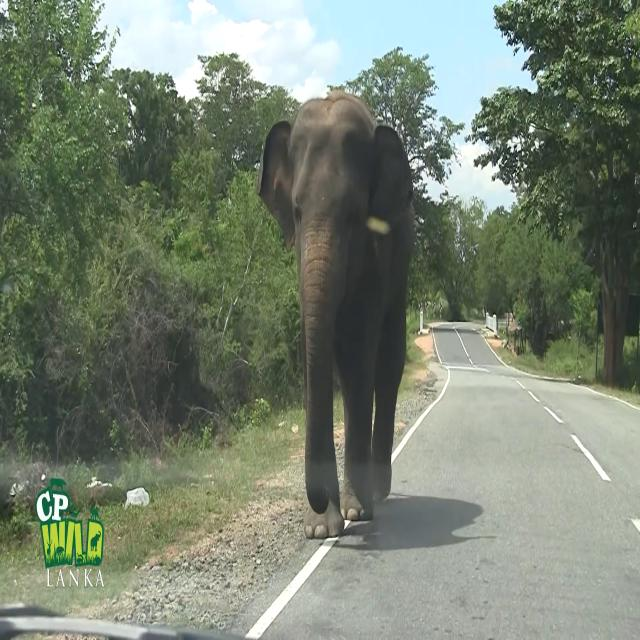Elephant: (256, 89, 414, 539)
